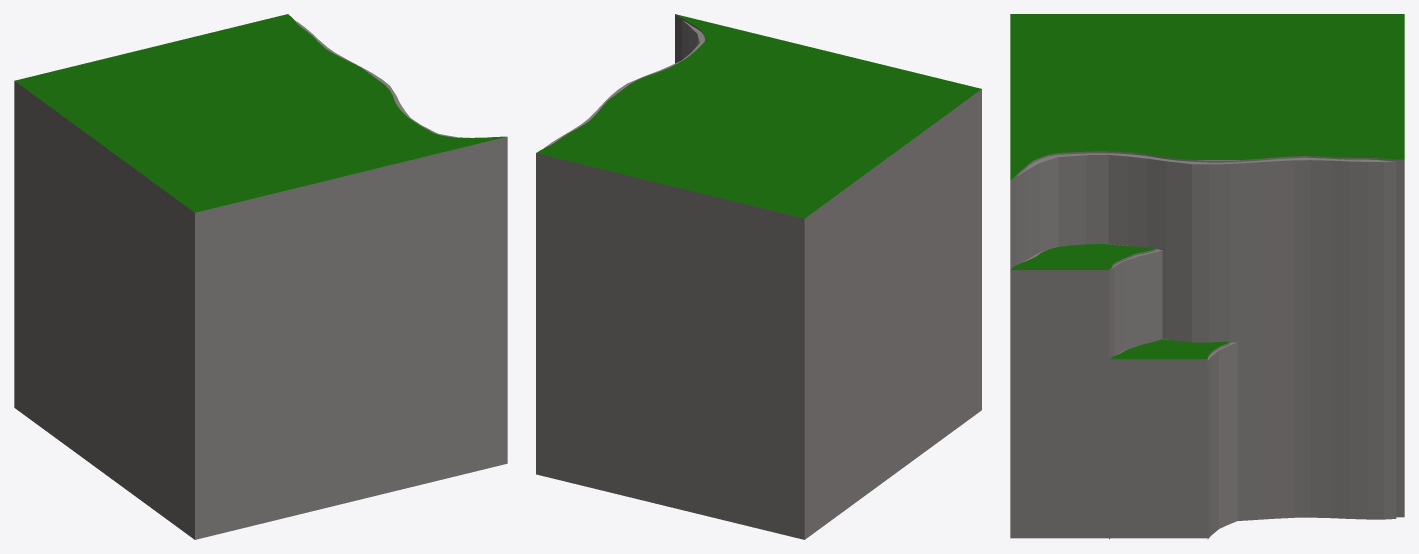
Rendered from STMWedge.fbx.
3 renders of one model, left to right at view 1: azimuth 30°, elevation 25°; view 2: azimuth 150°, elevation 25°; view 3: azimuth 270°, elevation 25°, orthographic. The views are drawn at different scales.
Parts seen in each view (by area): view 1: Plane.001; view 2: Plane.001; view 3: Plane.001.
Boxes of the visible parts, x1,y1,x2,y2 form: Plane.001: (14,14,507,539); Plane.001: (536,14,981,539); Plane.001: (1010,14,1404,539).
Bounding box in the file's own units: 100 × 101 × 100.
